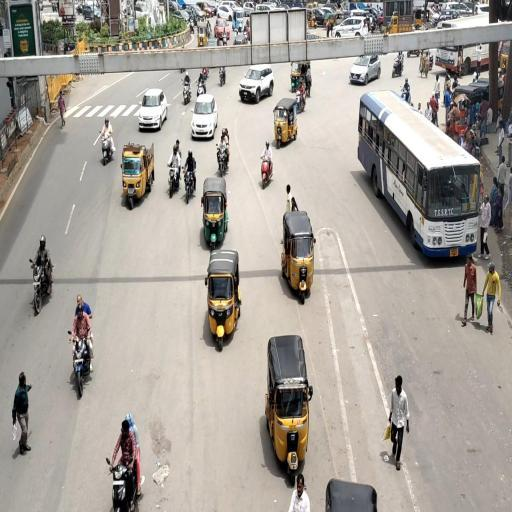helmet: (30, 226, 64, 339), (253, 128, 284, 188), (216, 126, 230, 176)
no helmet: (104, 396, 155, 512), (65, 266, 110, 384)
